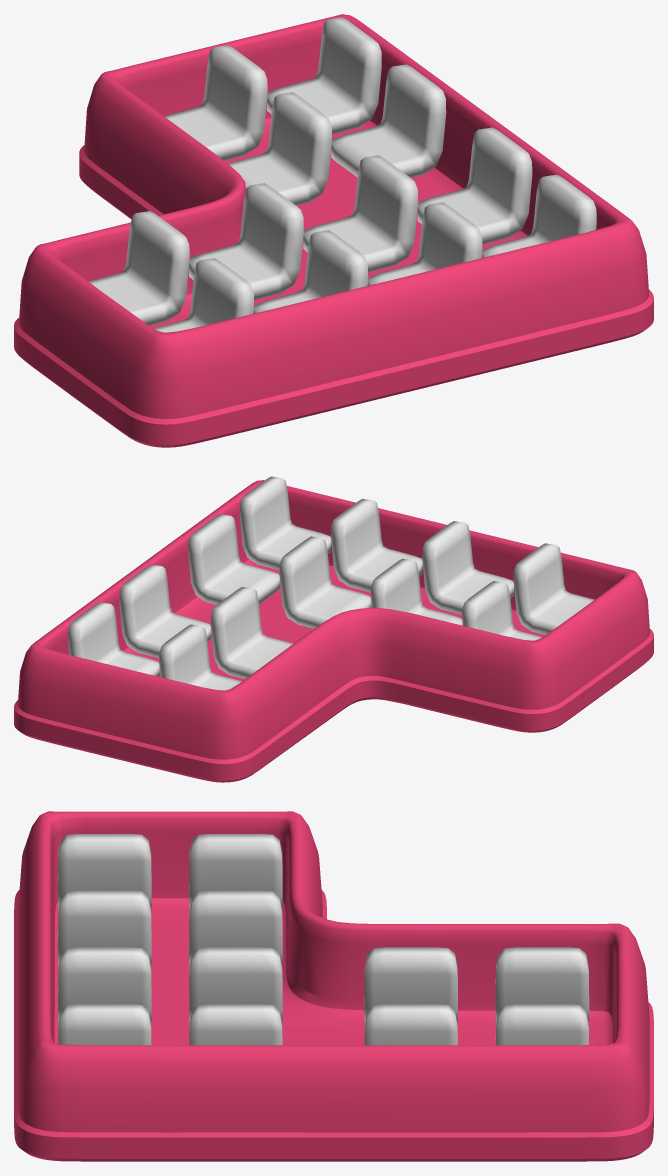
Rendered from car_L_L_1_T2.fbx.
The picture shows the model from 3 angles, top to bottom: view 1: azimuth 30°, elevation 25°; view 2: azimuth 150°, elevation 25°; view 3: azimuth 270°, elevation 25°; orthographic projection. The views are drawn at different scales.
Visible parts, largest first — view 1: Cube.106, Cube.104, Cube.105; view 2: Cube.106, Cube.104, Cube.105; view 3: Cube.106, Cube.104, Cube.105.
Part boxes in pixels (<box>): Cube.106: <box>14,14,653,447</box>; Cube.104: <box>88,127,596,332</box>; Cube.105: <box>164,17,446,205</box>; Cube.106: <box>14,480,653,782</box>; Cube.104: <box>188,476,594,640</box>; Cube.105: <box>68,564,293,690</box>; Cube.106: <box>14,811,653,1161</box>; Cube.104: <box>58,834,282,1045</box>; Cube.105: <box>364,947,589,1045</box>.
Size of the model in its own units: 360 by 83.38 by 376.
